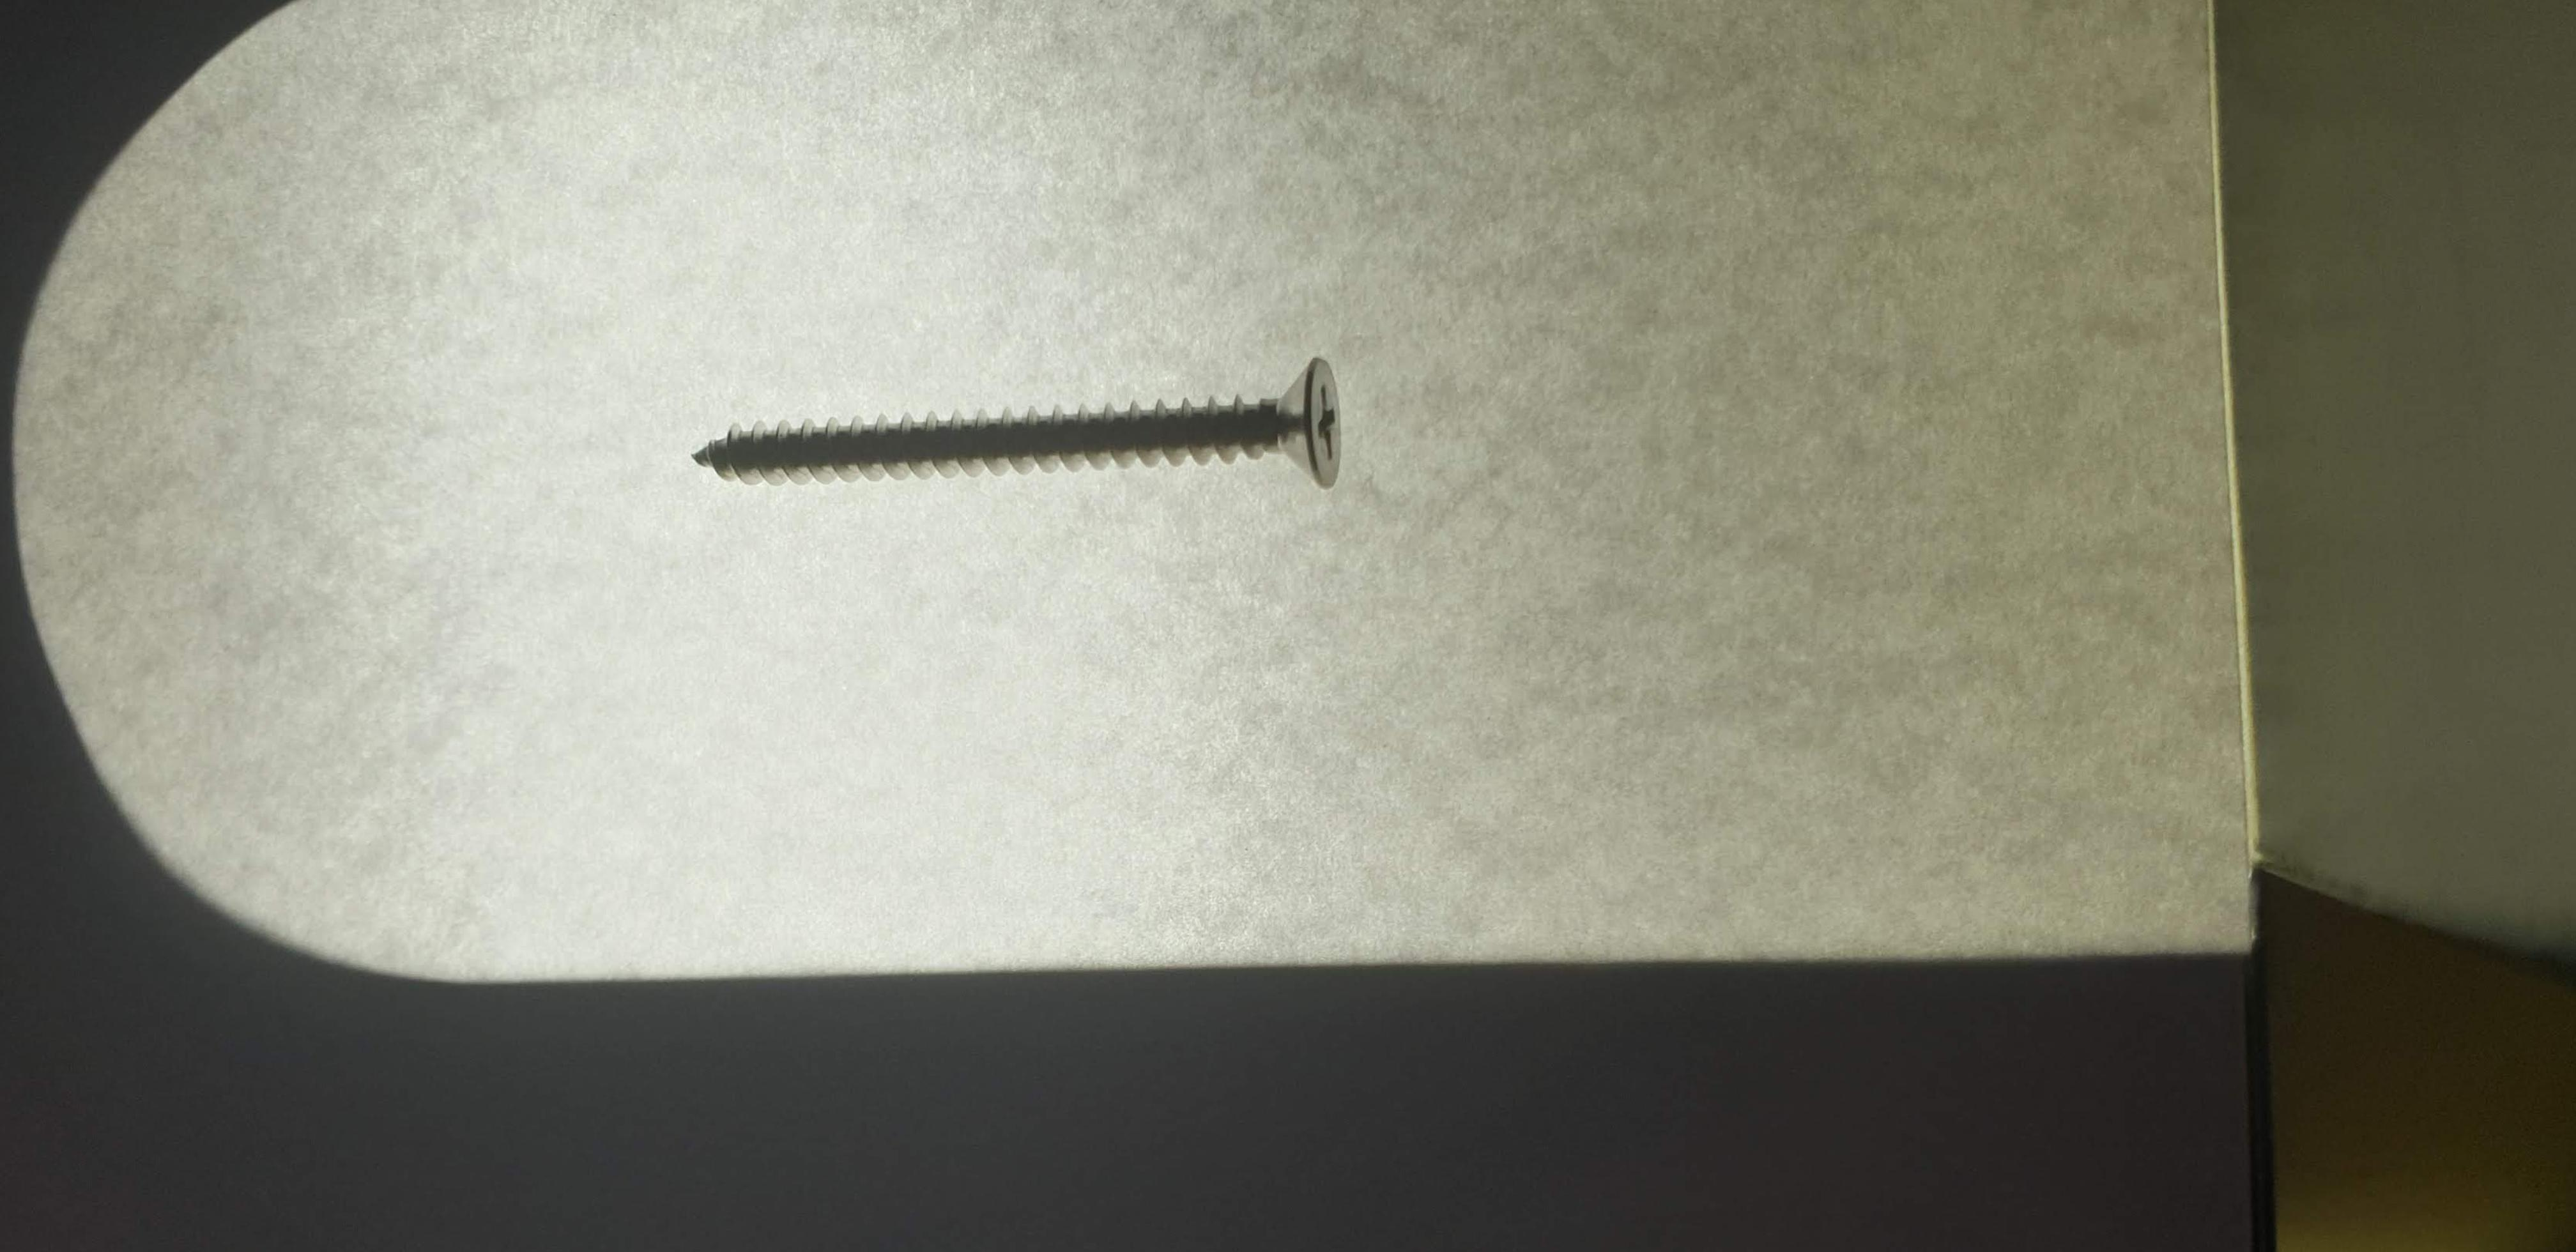S001: (660, 301, 1395, 545)
